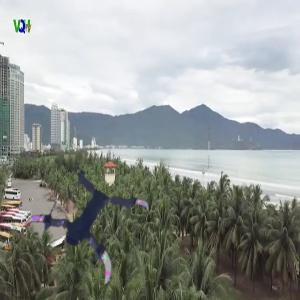drone: (24, 170, 143, 289)
